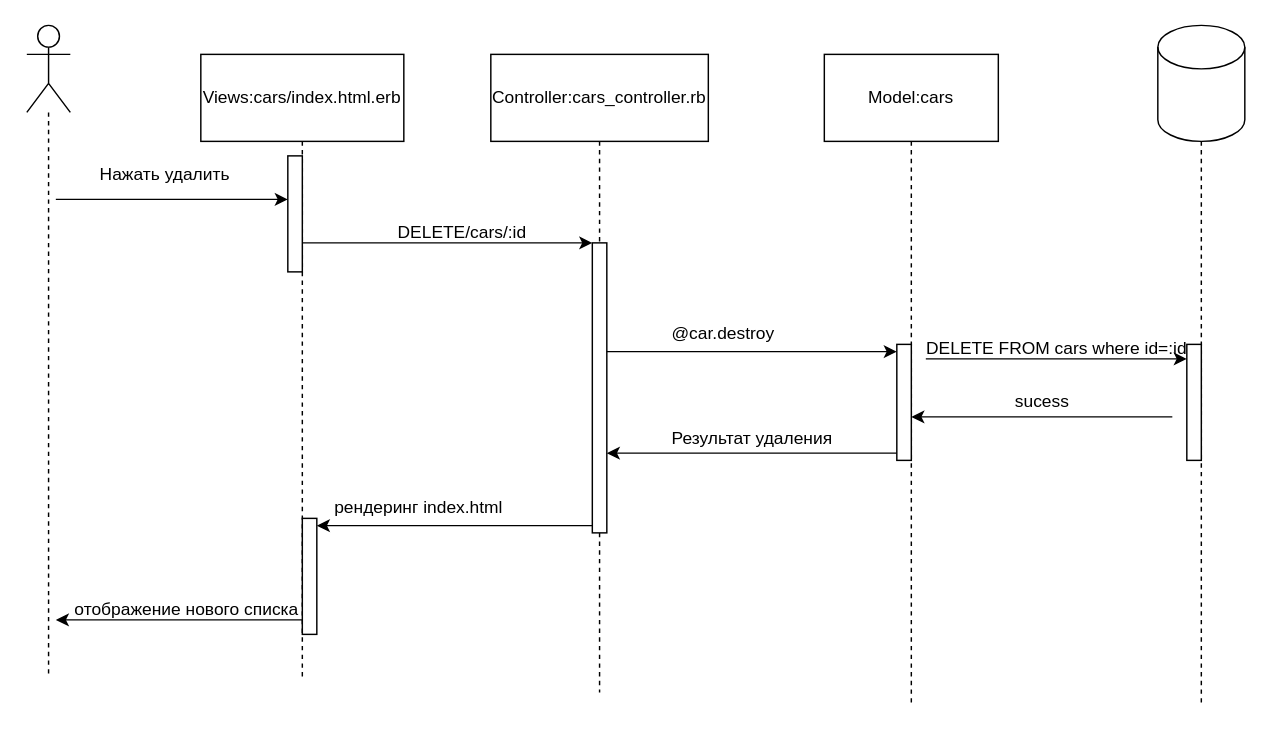
The diagram is 1270 pixels wide and 734 high, and some of its shapes have lost their labels. The box of each missing label's shape, as (x1, y1, x2, y2) in pixels:
DB: (1156, 24, 1245, 141)
USER: (25, 24, 70, 112)
